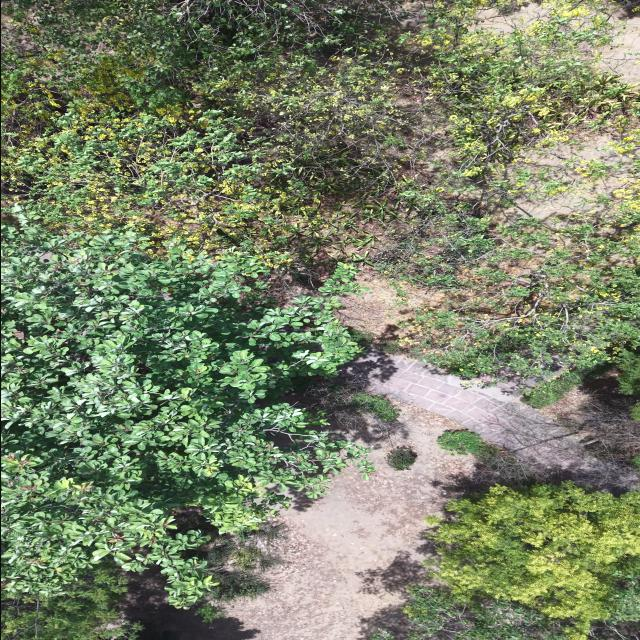DRY_AREA: (126, 352, 608, 639), (156, 353, 600, 639), (229, 354, 610, 639), (230, 356, 590, 639), (125, 400, 474, 639), (229, 402, 474, 639), (345, 349, 637, 488), (346, 351, 637, 488), (357, 351, 637, 487), (361, 351, 637, 487), (364, 353, 637, 487), (359, 349, 589, 445), (491, 130, 635, 220), (371, 354, 513, 440), (497, 131, 634, 218), (495, 133, 634, 218), (335, 264, 428, 341), (597, 8, 639, 83), (598, 11, 639, 83), (536, 386, 592, 419)
PATHWAYS: (350, 351, 636, 487)
VEGETATION_TREE: (1, 0, 639, 604), (2, 0, 638, 377), (2, 226, 370, 604), (3, 0, 431, 263), (373, 2, 638, 378), (390, 0, 637, 195), (398, 195, 639, 379), (398, 218, 639, 378), (402, 482, 639, 639), (429, 482, 639, 639), (432, 482, 639, 622), (402, 586, 638, 639), (173, 509, 288, 617), (1, 562, 141, 639), (1, 564, 138, 639), (402, 586, 570, 639), (558, 386, 639, 489), (282, 373, 400, 443), (200, 522, 287, 604), (437, 429, 546, 484), (574, 399, 639, 471), (521, 361, 620, 408), (521, 370, 581, 408), (605, 556, 639, 622), (437, 429, 497, 458), (349, 391, 399, 420), (614, 348, 639, 395), (614, 348, 639, 394), (588, 621, 639, 639), (386, 447, 416, 469), (195, 602, 225, 622), (369, 628, 392, 639)
